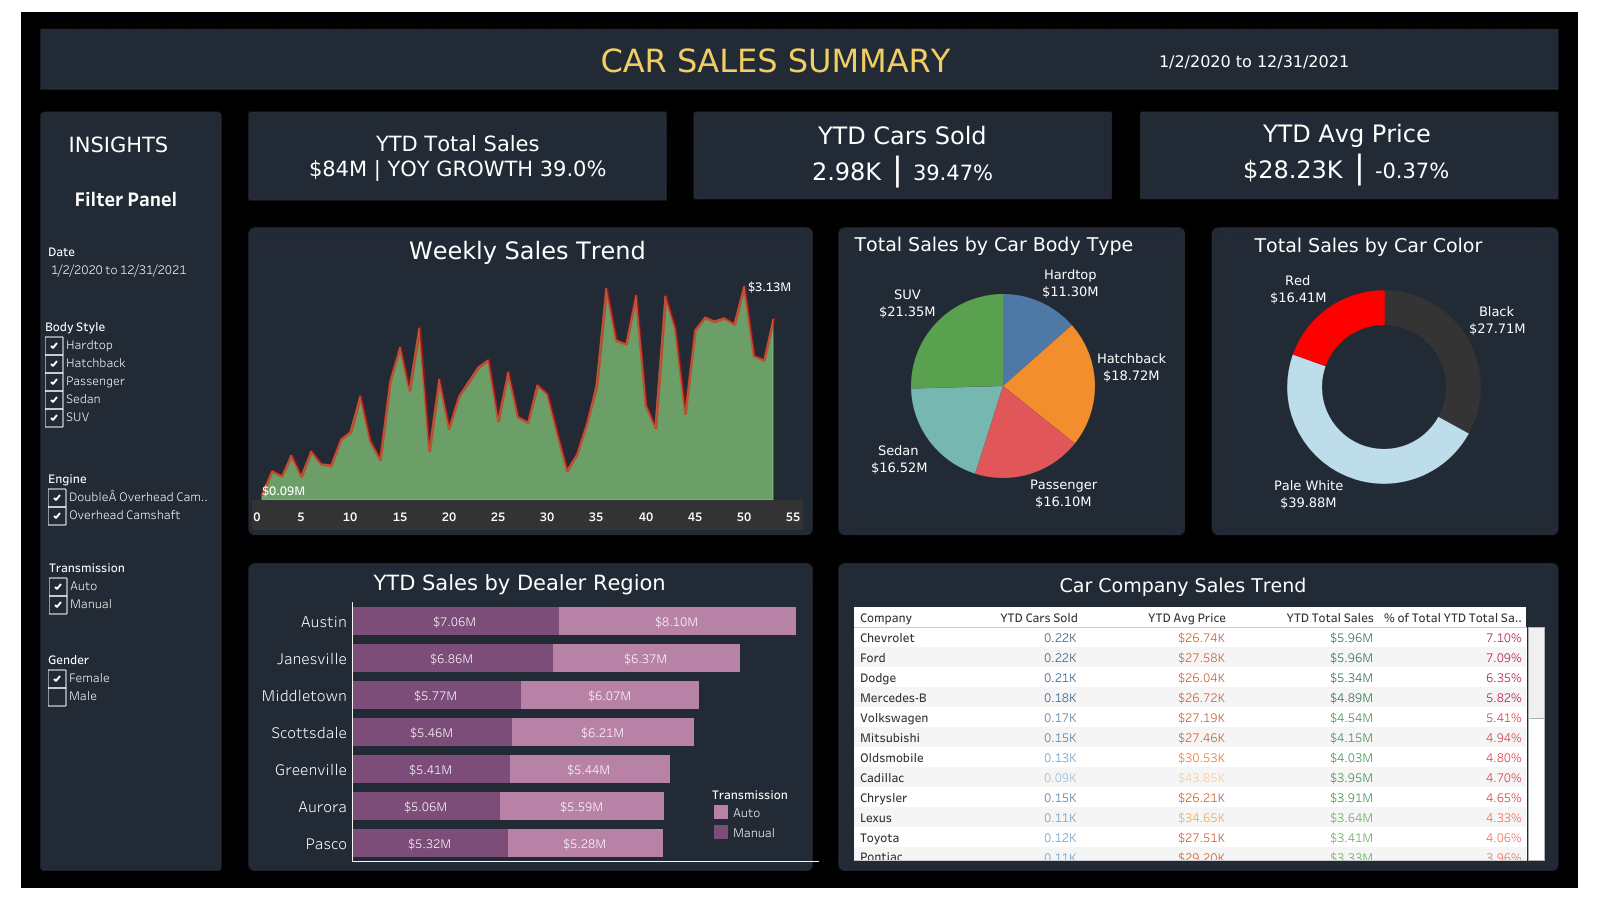

Layout of this report page (visuals, bound fields, positions):
{"tool":"tableau","page":{"name":"Main","canvas":[1600,900],"ordinal":0},"visuals":[{"type":"image","param":"Image/Car Sales Background.jpg","box":[8,8,1584,884]},{"type":"worksheet","title":"Data Range","mark":"Automatic","box":[1109,43,292,38]},{"type":"text","box":[524,46,503,30]},{"type":"worksheet","title":"YTD Cars Sold","mark":"Automatic","box":[707,114,392,82]},{"type":"worksheet","title":"YTD Avg Price","mark":"Automatic","box":[1144,115,406,76]},{"type":"worksheet","title":"YTD Sales","mark":"Automatic","box":[254,122,408,68]},{"type":"text","box":[66,129,122,30]},{"type":"text","box":[72,183,109,30]},{"type":"worksheet","title":"YTD Total Sales by Car Body","mark":"Pie","box":[782,202,442,368]},{"type":"text","box":[852,229,370,30]},{"type":"worksheet","title":"YTD Sales Weekly Trend","mark":"Area","rows":["Calculation_184647604206288896","Calculation_184647604206288896"],"cols":["Date"],"box":[252,230,551,300]},{"type":"text","box":[1252,235,279,20]},{"type":"filter","title":"YTD Sales Weekly Trend","param":"[federated.0ns0zdu050fjvz16i0xii096zuk8].[none:Date:qk]","box":[48,241,160,61]},{"type":"worksheet","title":"YTD Sales By Color","mark":"Pie","rows":["Calculation_184647604232937486","Calculation_184647604232978448"],"box":[1169,249,430,276]},{"type":"filter","title":"YTD Sales Weekly Trend","param":"[federated.0ns0zdu050fjvz16i0xii096zuk8].[none:Body Style:nk]","box":[45,316,160,138]},{"type":"filter","title":"YTD Sales Weekly Trend","param":"[federated.0ns0zdu050fjvz16i0xii096zuk8].[none:Engine:nk]","box":[48,468,160,81]},{"type":"filter","title":"YTD Sales Weekly Trend","param":"[federated.0ns0zdu050fjvz16i0xii096zuk8].[none:Transmission:nk]","box":[49,557,160,81]},{"type":"text","box":[371,567,383,30]},{"type":"text","box":[1057,570,329,30]},{"type":"worksheet","title":"YTD by Dealer Region","mark":"Automatic","rows":["Dealer_Region"],"cols":["Calculation_184647604206288896"],"box":[252,602,566,259]},{"type":"worksheet","title":"Company Wise Sales Trend","mark":"Automatic","rows":["Company"],"box":[854,607,691,254]},{"type":"filter","title":"YTD Sales Weekly Trend","param":"[federated.0ns0zdu050fjvz16i0xii096zuk8].[none:Gender:nk]","box":[48,649,160,81]},{"type":"legend","title":"YTD by Dealer Region","param":"[federated.0ns0zdu050fjvz16i0xii096zuk8].[none:Transmission:nk]","box":[711,783,84,64]}]}

Visuals, with their boxes in screenshot pixels (x1, y1, x2, y2), scaled from the page's 1600x900 canvas onto the 1599x899 screenshot:
image: (8,8,1591,891)
"Data Range" worksheet: (1108,43,1400,81)
text: (524,46,1026,76)
"YTD Cars Sold" worksheet: (707,114,1098,196)
"YTD Avg Price" worksheet: (1143,115,1549,191)
"YTD Sales" worksheet: (254,122,662,190)
text: (66,129,188,159)
text: (72,183,181,213)
"YTD Total Sales by Car Body" worksheet (Pie marks): (782,202,1223,569)
text: (851,229,1221,259)
"YTD Sales Weekly Trend" worksheet (Area marks): (252,230,802,529)
text: (1251,235,1530,255)
"YTD Sales Weekly Trend" filter: (48,241,208,302)
"YTD Sales By Color" worksheet (Pie marks): (1168,249,1598,524)
"YTD Sales Weekly Trend" filter: (45,316,205,453)
"YTD Sales Weekly Trend" filter: (48,467,208,548)
"YTD Sales Weekly Trend" filter: (49,556,209,637)
text: (371,566,754,596)
text: (1056,569,1385,599)
"YTD by Dealer Region" worksheet: (252,601,817,860)
"Company Wise Sales Trend" worksheet: (853,606,1544,860)
"YTD Sales Weekly Trend" filter: (48,648,208,729)
"YTD by Dealer Region" legend: (711,782,795,846)
